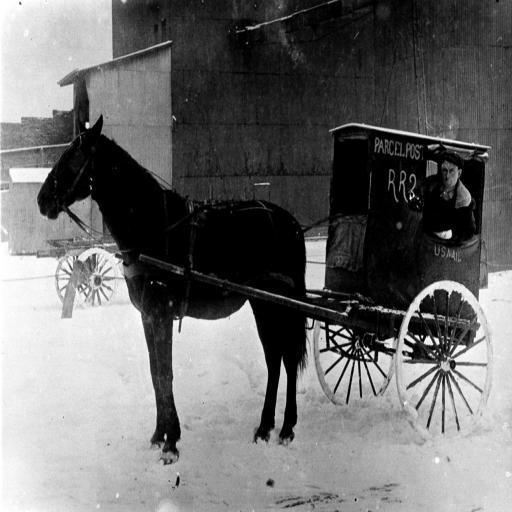horse: (34, 112, 314, 464)
